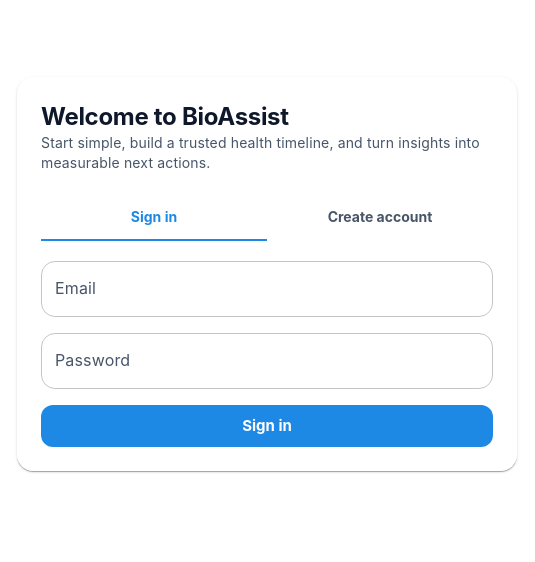
Test case: LoginPage › switches to signup and shows confirm password
The width and height of the screenshot is (535, 562).
Click the tab "Create account": (380, 217) [267,193,493,241]
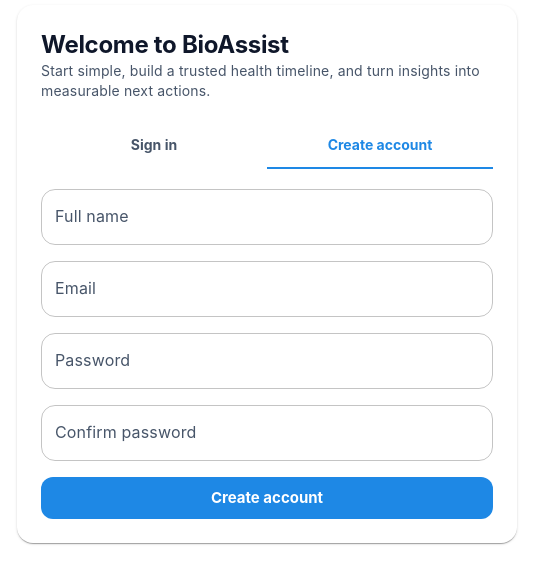
Expected: the password field labelled "Confirm password" is shown, [41,405,493,461]
